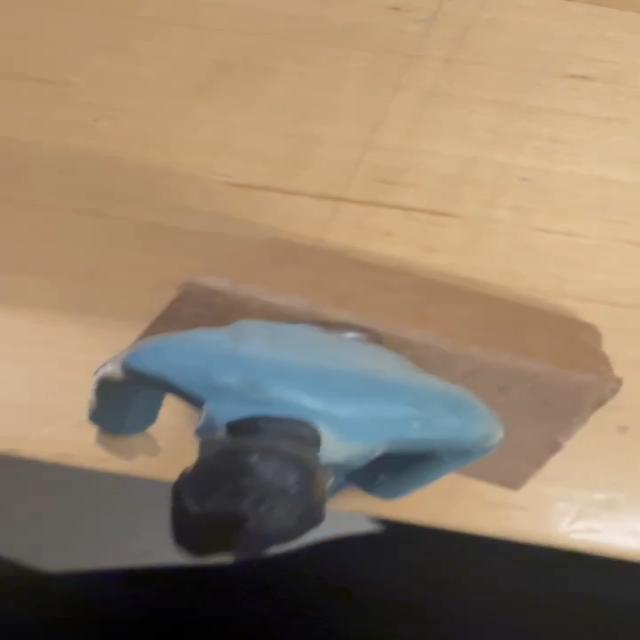Authorized: (74, 300, 505, 559)
